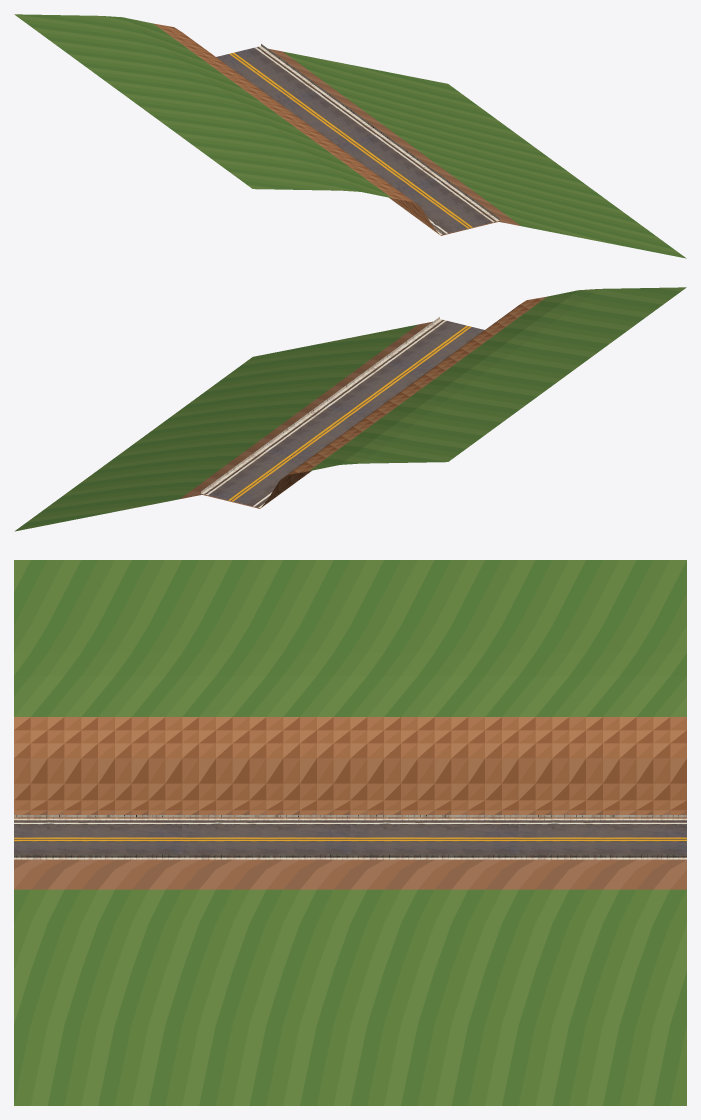
File: roadTile.glb
The picture shows the model from 3 angles, top to bottom: view 1: azimuth 30°, elevation 25°; view 2: azimuth 150°, elevation 25°; view 3: azimuth 270°, elevation 25°; orthographic projection. The views are drawn at different scales.
Visible parts, largest first — view 1: RoadsideTerrain, TripoPaintedRoadSurface, TripoStoneGuardrails; view 2: RoadsideTerrain, TripoPaintedRoadSurface, TripoStoneGuardrails; view 3: RoadsideTerrain, TripoPaintedRoadSurface, TripoStoneGuardrails.
Part boxes in pixels (left/top/right/bottom): RoadsideTerrain: left=14, top=14, right=686, bottom=258; TripoPaintedRoadSurface: left=216, top=47, right=496, bottom=234; TripoStoneGuardrails: left=258, top=44, right=499, bottom=235; RoadsideTerrain: left=14, top=287, right=686, bottom=531; TripoPaintedRoadSurface: left=204, top=320, right=484, bottom=507; TripoStoneGuardrails: left=201, top=317, right=442, bottom=508; RoadsideTerrain: left=14, top=560, right=686, bottom=1105; TripoPaintedRoadSurface: left=14, top=820, right=686, bottom=854; TripoStoneGuardrails: left=14, top=815, right=686, bottom=859.
Size of the model in its own units: 84 by 32.44 by 80.
Materials: 2 (1 with a texture image).
